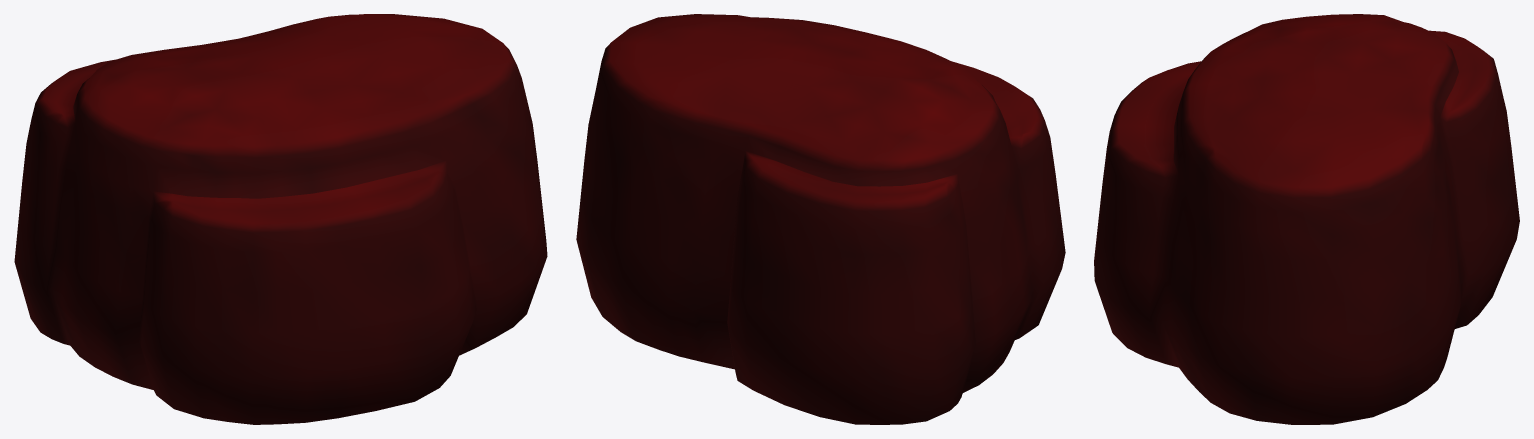
Rendered from geology-landforms-greenhilllarge_v2.fbx.
3 renders of one model, left to right at view 1: azimuth 30°, elevation 25°; view 2: azimuth 150°, elevation 25°; view 3: azimuth 270°, elevation 25°, orthographic. The views are drawn at different scales.
Parts seen in each view (by area): view 1: GreenHillLarge_v2; view 2: GreenHillLarge_v2; view 3: GreenHillLarge_v2.
Part boxes in pixels (left/top/right/bottom): GreenHillLarge_v2: left=14, top=14, right=547, bottom=424; GreenHillLarge_v2: left=576, top=14, right=1065, bottom=424; GreenHillLarge_v2: left=1094, top=14, right=1519, bottom=424.
Bounding box in the file's own units: 38.88 × 22.08 × 34.44.
